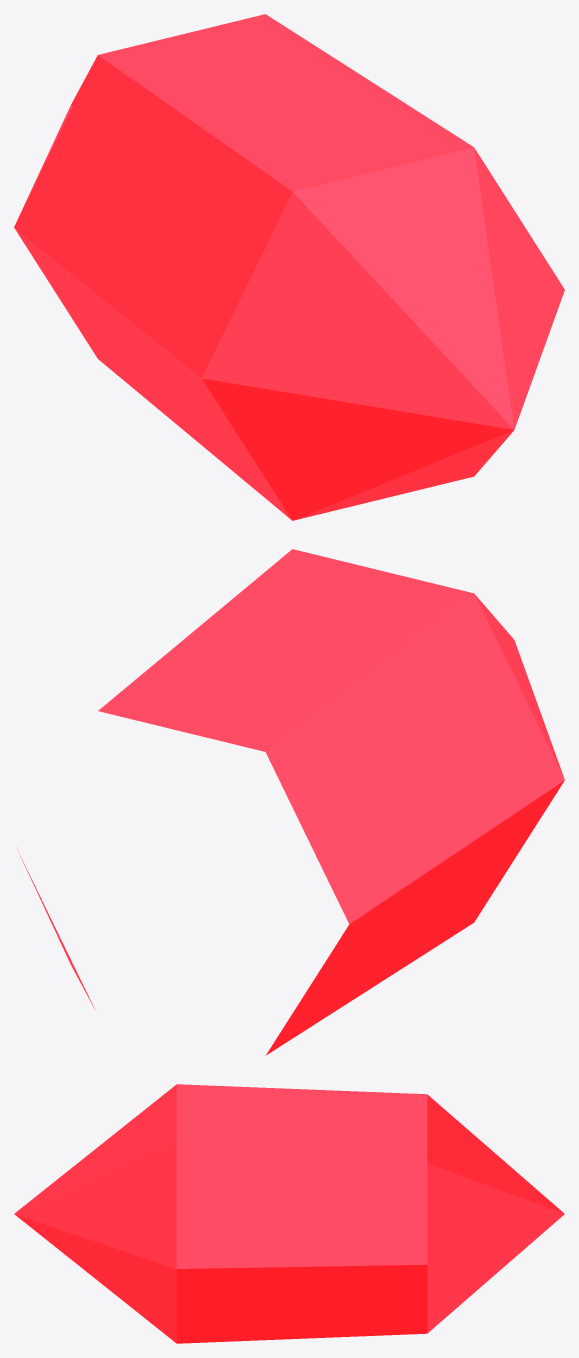
Rendered from target_icon.glb.
3 views of the same model, one above another, from view 1: azimuth 30°, elevation 25°; view 2: azimuth 150°, elevation 25°; view 3: azimuth 270°, elevation 25° (orthographic). The views are drawn at different scales.
Visible parts, largest first — view 1: TargetSelectionCrystal; view 2: TargetSelectionCrystal; view 3: TargetSelectionCrystal.
Boxes of the visible parts, left/top/right/bottom form: TargetSelectionCrystal: left=14, top=14, right=564, bottom=520; TargetSelectionCrystal: left=16, top=549, right=564, bottom=1055; TargetSelectionCrystal: left=14, top=1084, right=564, bottom=1343.
Size of the model in its own units: 104 by 90.07 by 220.
